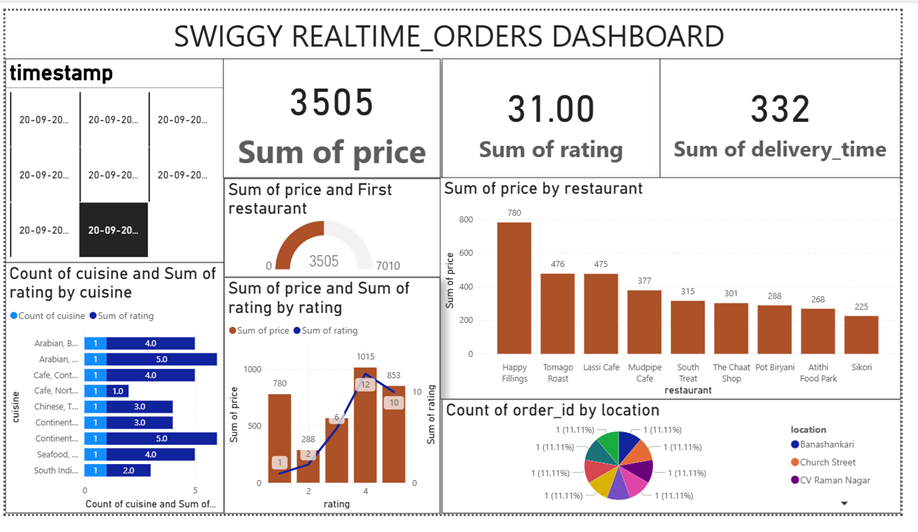

The dashboard page shown, as its layout file describes it:
{"tool":"powerbi","page":{"name":"Page 1","canvas":[1280,720],"ordinal":0},"visuals":[{"type":"textbox","box":[10.7,0,1268.8,76.4],"z":0},{"type":"advancedSlicerVisual","fields":{"Values":["Sheet1.time"]},"box":[0,76.4,354.7,269],"z":1000},{"type":"card","fields":{"Values":["Sum(Sheet1.price)"]},"box":[354.7,76.4,204.8,180.4],"z":2000},{"type":"card","fields":{"Values":["Sum(Sheet1.rating)"]},"box":[559.5,76.4,279.7,180.4],"z":3000},{"type":"card","fields":{"Values":["Sum(Sheet1.delivery_time)"]},"box":[839.2,76.4,440.3,180.4],"z":4000},{"type":"barChart","fields":{"Y":["Sum(Sheet1.rating)","CountNonNull(Sheet1.cuisine)"],"Category":["Sheet1.cuisine"]},"box":[0,345.5,354.7,374.5],"z":5000},{"type":"gauge","fields":{"Y":["Sum(Sheet1.price)"]},"box":[354.7,256.8,290.4,162],"z":6000},{"type":"lineStackedColumnComboChart","fields":{"Category":["Sheet1.rating"],"Y":["Sum(Sheet1.price)"],"Y2":["Sum(Sheet1.rating)"]},"box":[354.7,418.9,290.4,301.1],"z":7000},{"type":"columnChart","fields":{"Category":["Sheet1.restaurant"],"Y":["Sum(Sheet1.price)"]},"box":[645.1,256.8,634.4,276.7],"z":8000},{"type":"donutChart","fields":{"Category":["Sheet1.location"],"Y":["Count(Sheet1.order_id)"]},"box":[645.1,533.5,634.4,186.5],"z":9000}]}

Visuals, with their boxes in screenshot pixels (x1, y1, x2, y2), scaled from the page's 1280x720 canvas onto the 918x532 screenshot:
textbox: pyautogui.locateOnScreen(8, 0, 917, 56)
advancedSlicerVisual - Sheet1.time: pyautogui.locateOnScreen(0, 56, 254, 255)
card - Sum(Sheet1.price): pyautogui.locateOnScreen(254, 56, 401, 190)
card - Sum(Sheet1.rating): pyautogui.locateOnScreen(401, 56, 602, 190)
card - Sum(Sheet1.delivery_time): pyautogui.locateOnScreen(602, 56, 917, 190)
barChart - Sum(Sheet1.rating) x CountNonNull(Sheet1.cuisine): pyautogui.locateOnScreen(0, 255, 254, 531)
gauge - Sum(Sheet1.price): pyautogui.locateOnScreen(254, 190, 463, 309)
lineStackedColumnComboChart - Sheet1.rating x Sum(Sheet1.price): pyautogui.locateOnScreen(254, 310, 463, 531)
columnChart - Sheet1.restaurant x Sum(Sheet1.price): pyautogui.locateOnScreen(463, 190, 917, 394)
donutChart - Sheet1.location x Count(Sheet1.order_id): pyautogui.locateOnScreen(463, 394, 917, 531)
